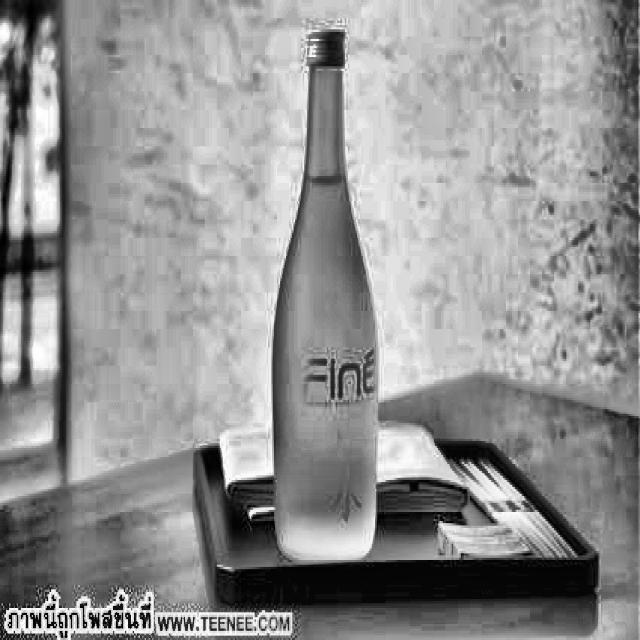waterbottle: (266, 18, 384, 577)
